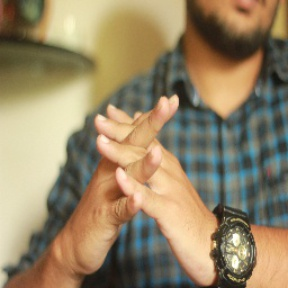W: (77, 85, 195, 252)
